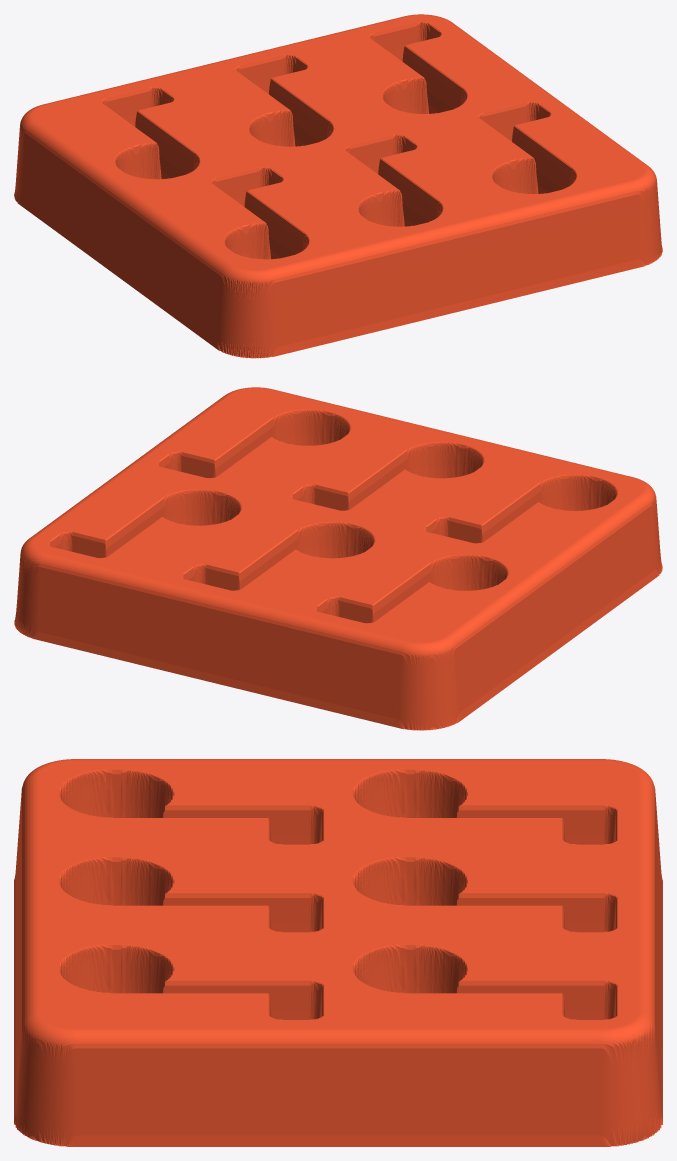
The model's file is mold.glb.
3 renders of one model, top to bottom at view 1: azimuth 30°, elevation 25°; view 2: azimuth 150°, elevation 25°; view 3: azimuth 270°, elevation 25°, orthographic. The views are drawn at different scales.
Parts seen in each view (by area): view 1: geometry_0; view 2: geometry_0; view 3: geometry_0.
Boxes of the visible parts, left/top/right/bottom form: geometry_0: left=14, top=14, right=662, bottom=358; geometry_0: left=14, top=387, right=662, bottom=730; geometry_0: left=14, top=759, right=662, bottom=1146.
Bounding box in the file's own units: 0.1005 × 0.0175 × 0.0955.
